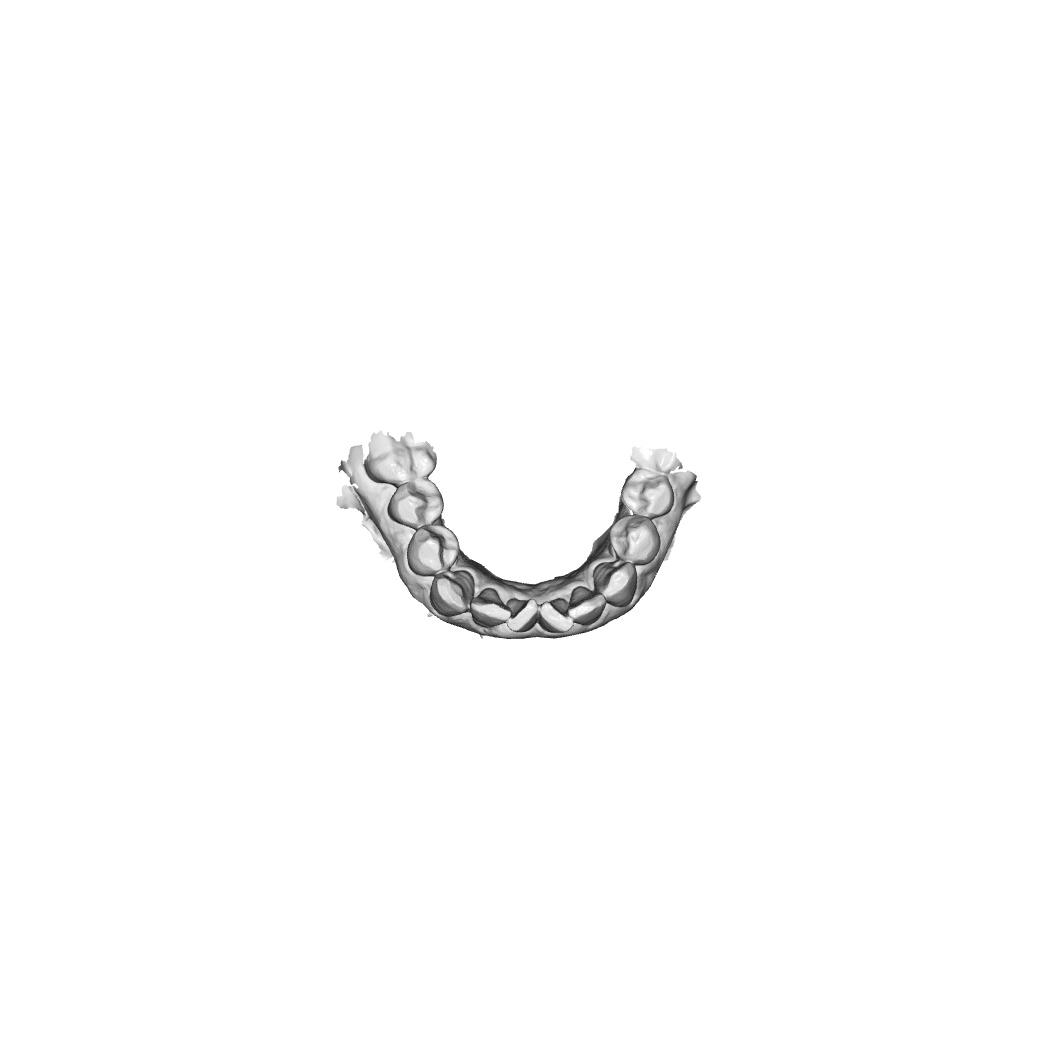canine: (590, 559, 638, 609), (429, 569, 475, 618)
incisor: (469, 586, 512, 629), (566, 585, 607, 627), (506, 597, 540, 633), (539, 597, 573, 633)
molar: (364, 435, 438, 486)
premolar: (387, 477, 445, 530), (406, 523, 461, 577), (607, 513, 662, 566), (619, 467, 674, 519)
